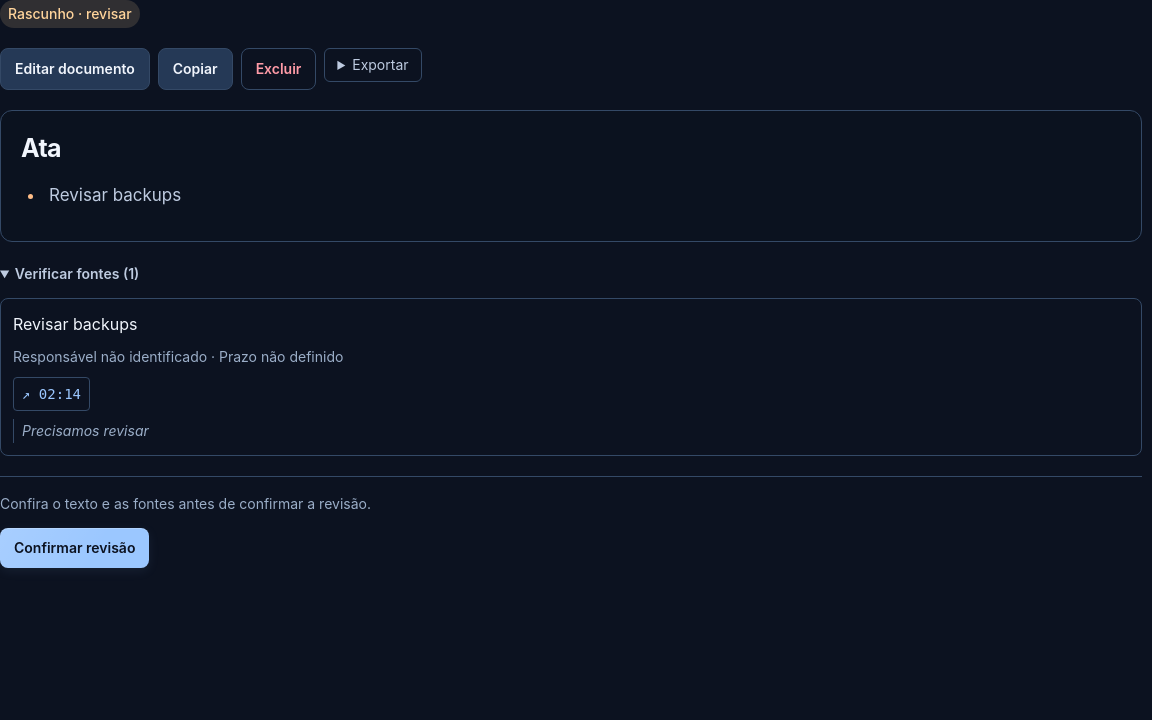
deletes a document only after confirmation and keeps it when the server refuses
Click the button "Excluir" at (278, 69), box [241,48,316,90]
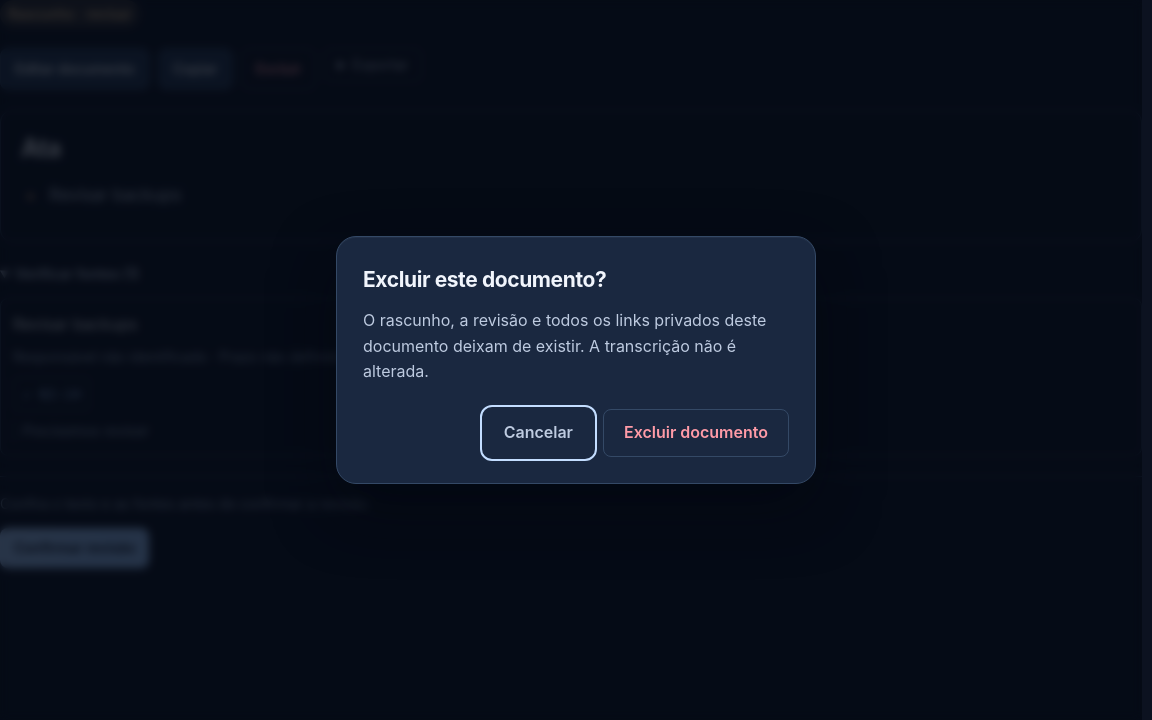
Check: the dialog "Excluir este documento?" shows "todos os links privados", box [363,310,766,381]
Click the button "Excluir documento" at (696, 433), box [603,409,789,457]
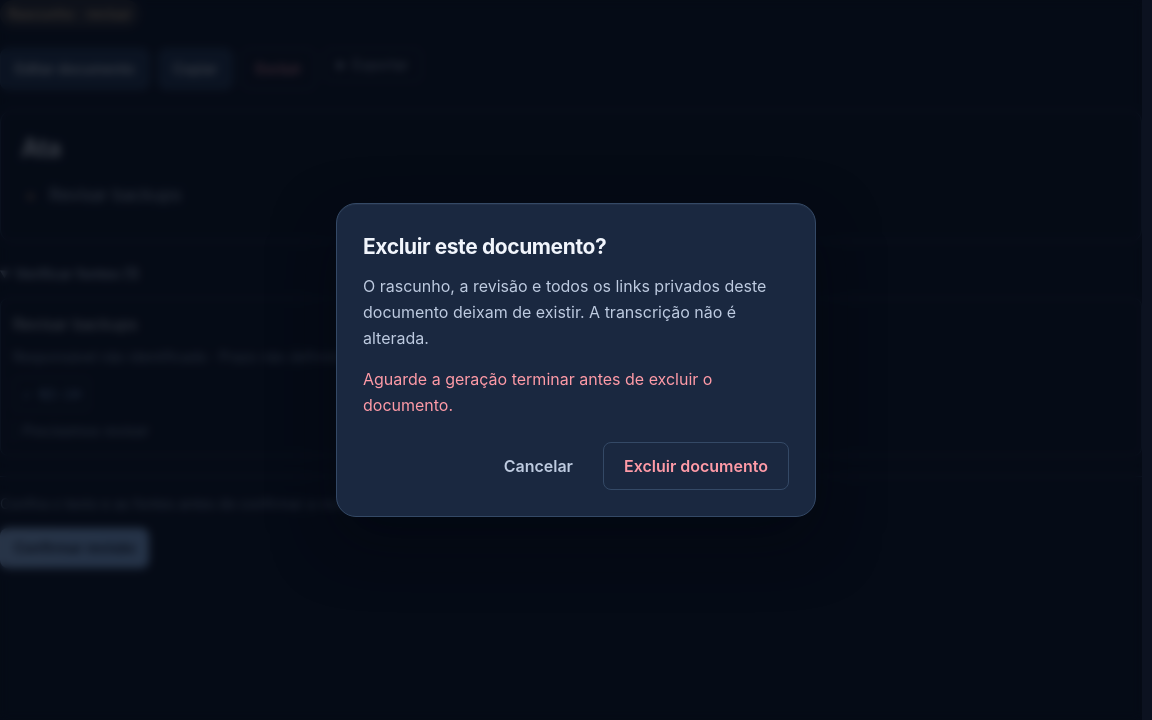
Check: the message shows "Aguarde a geração terminar", box [363,369,712,415]
Click the button "Excluir documento" at (696, 466), box [603,442,789,490]
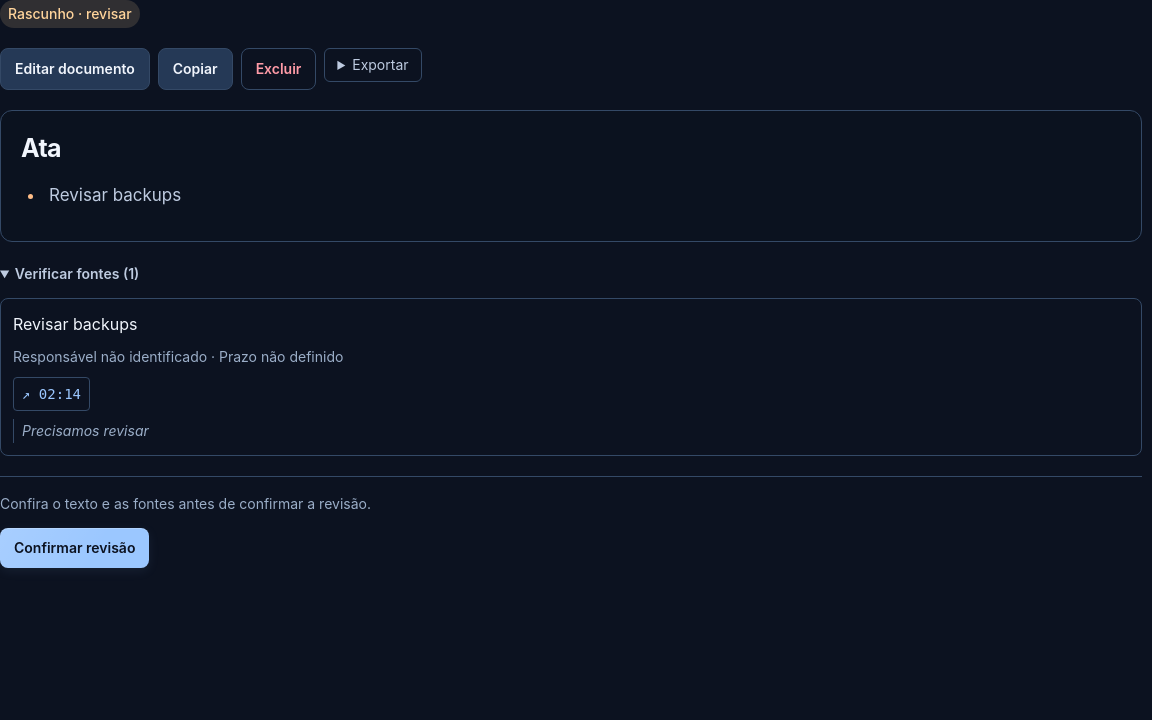
Check: the dialog is gone
